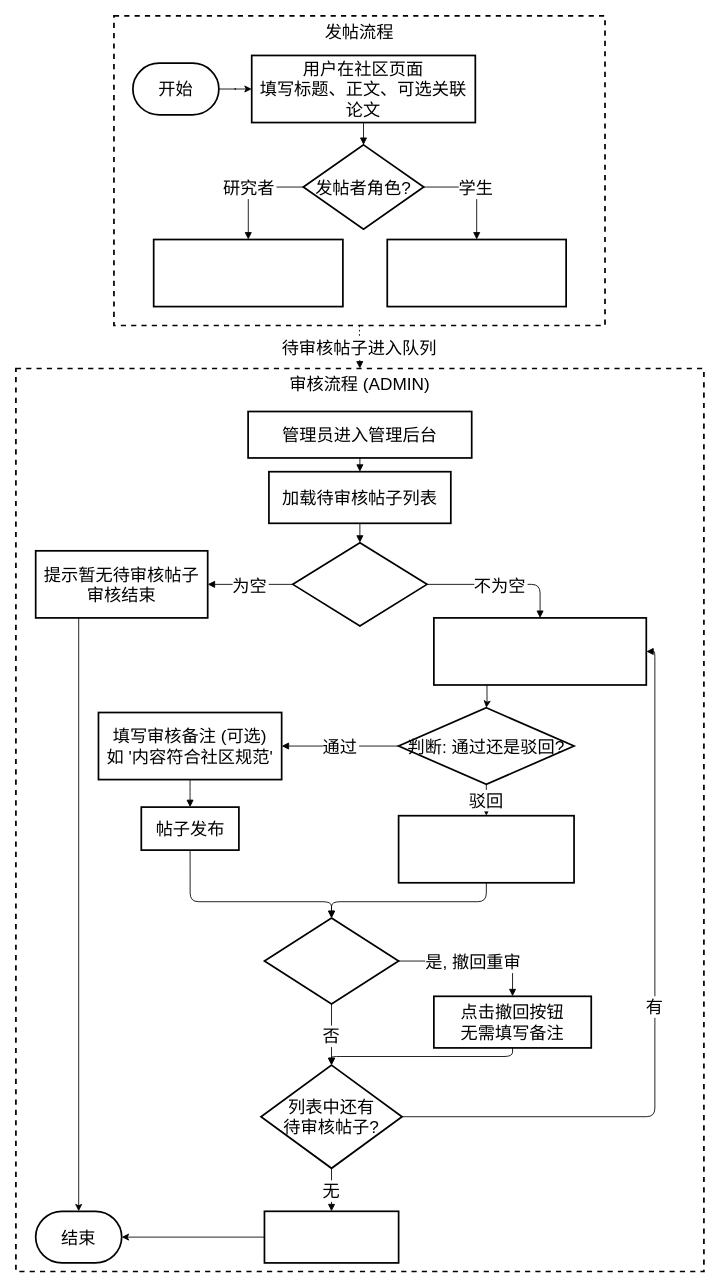
Some shapes in this 719 by 1287 pixel diagram are drawn without their labels. Here are the shapes that lost their labels. From the top down, the centre of each, then its label:
At point 247,272: "直接发布，社区所有人可见".
At point 476,272: "进入待审核队列，仅管理员可见".
At point 359,584: "列表是否为空?".
At point 540,651: "点击某条帖子的查看按钮 弹窗预览: 作者/标题/正文".
At point 485,848: "填写驳回理由 (必填) 如 '内容与科研无关'".
At point 331,960: "是否需要撤回?".
At point 331,1236: "本轮审核完成".
